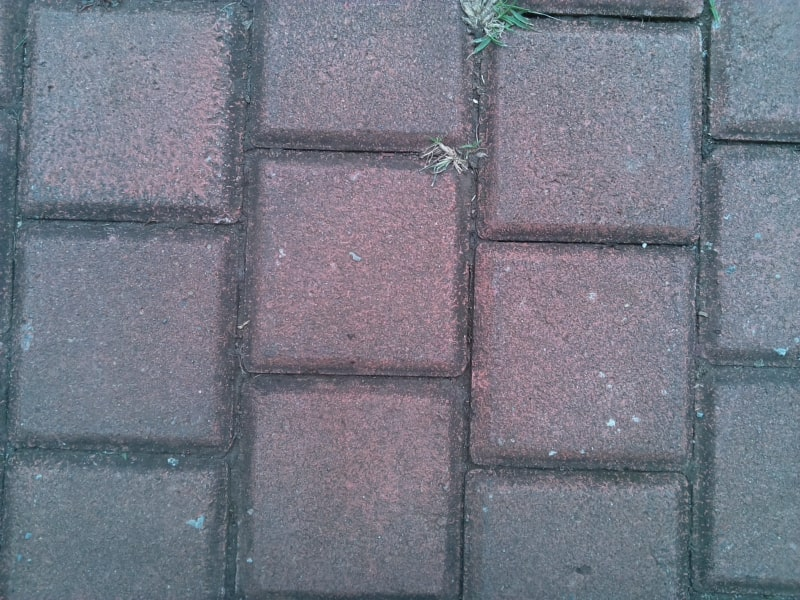Weed: (452, 1, 536, 53), (422, 134, 490, 180)
